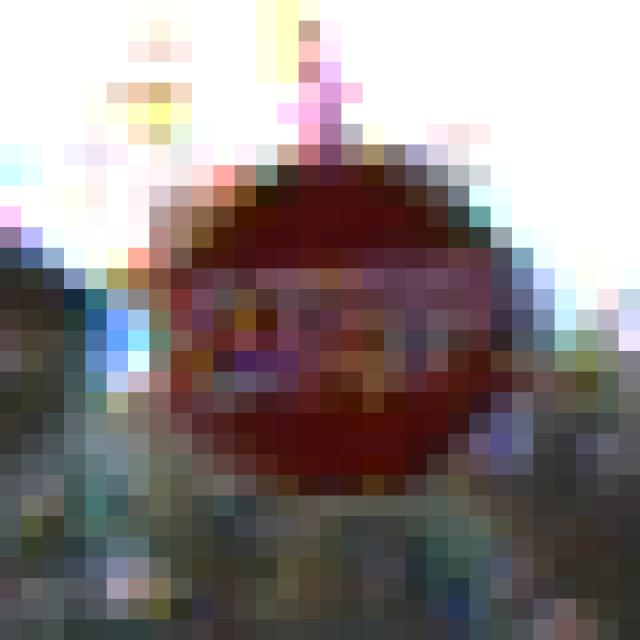STOP: (129, 125, 534, 538)
